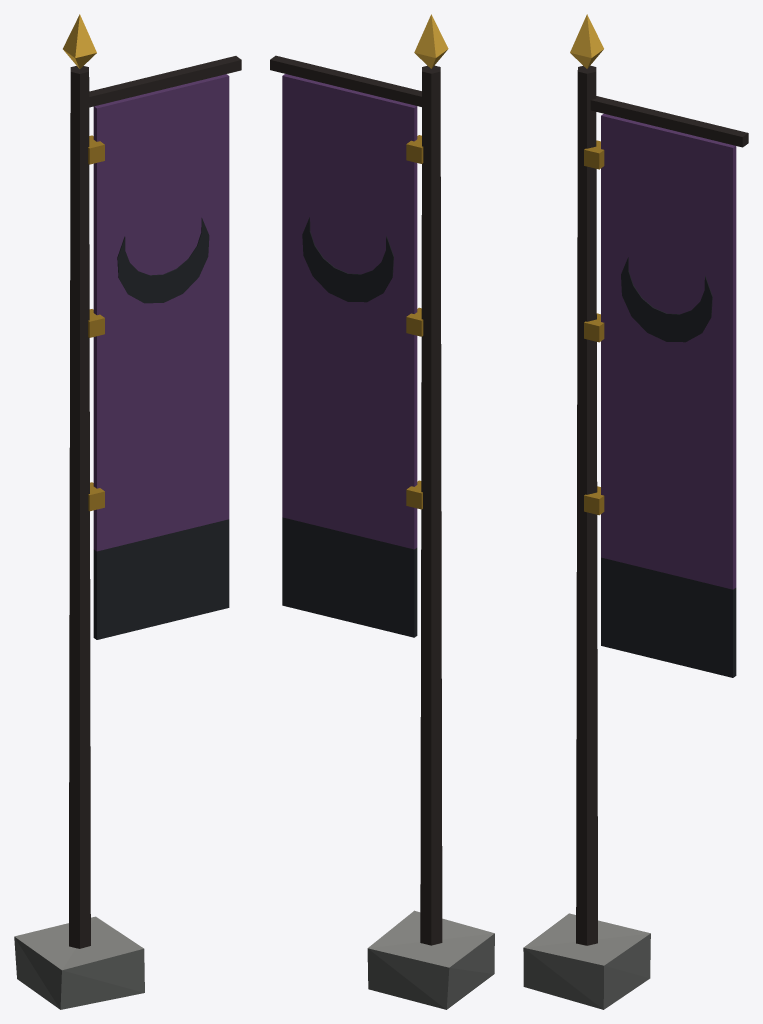
The model's file is banner_kurokage.fbx.
3 renders of one model, left to right at view 1: azimuth 30°, elevation 25°; view 2: azimuth 150°, elevation 25°; view 3: azimuth 330°, elevation 25°, orthographic.
Parts seen in each view (by area): view 1: banner_kurokage; view 2: banner_kurokage; view 3: banner_kurokage.
Boxes of the visible parts, bbox=[...] form: banner_kurokage: bbox=[14, 14, 241, 1009]; banner_kurokage: bbox=[270, 14, 494, 1009]; banner_kurokage: bbox=[523, 14, 748, 1009].
Bounding box in the file's own units: 0.9094 × 4.21 × 0.3787.
